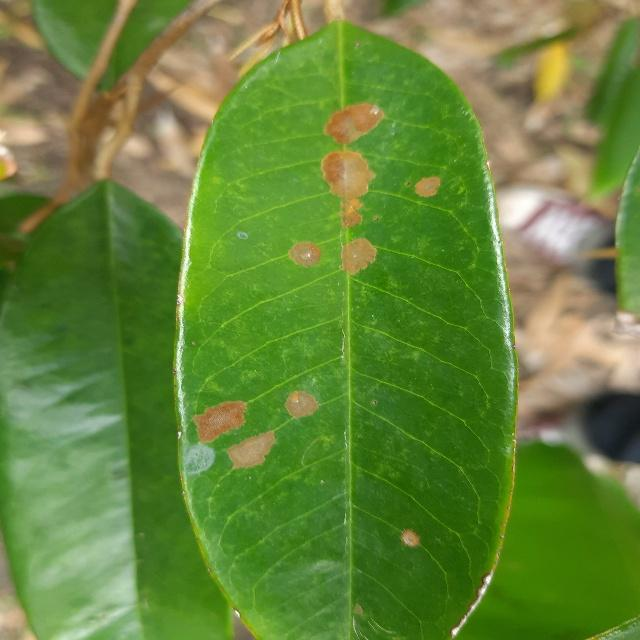Algal Leaf Spot: (171, 13, 522, 640)
